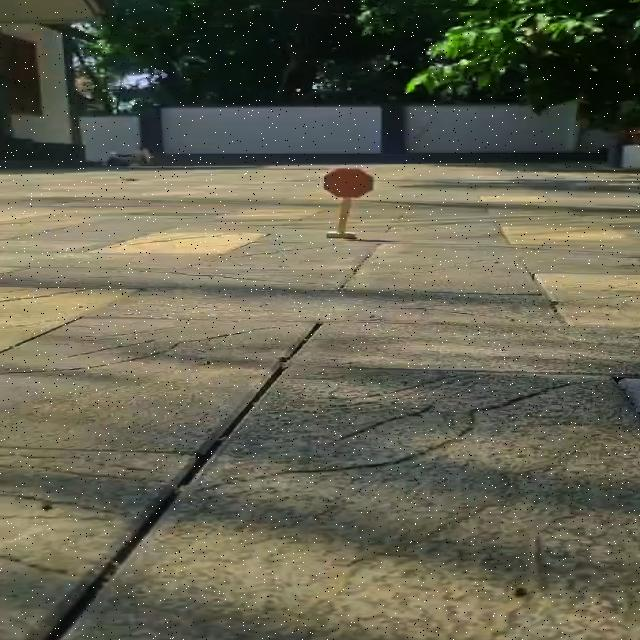Stop: (308, 164, 386, 200)
